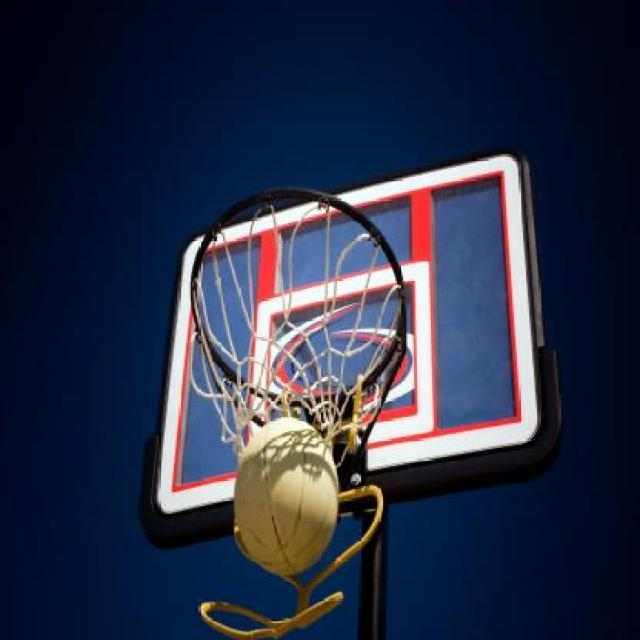basketball: (233, 418, 339, 578)
